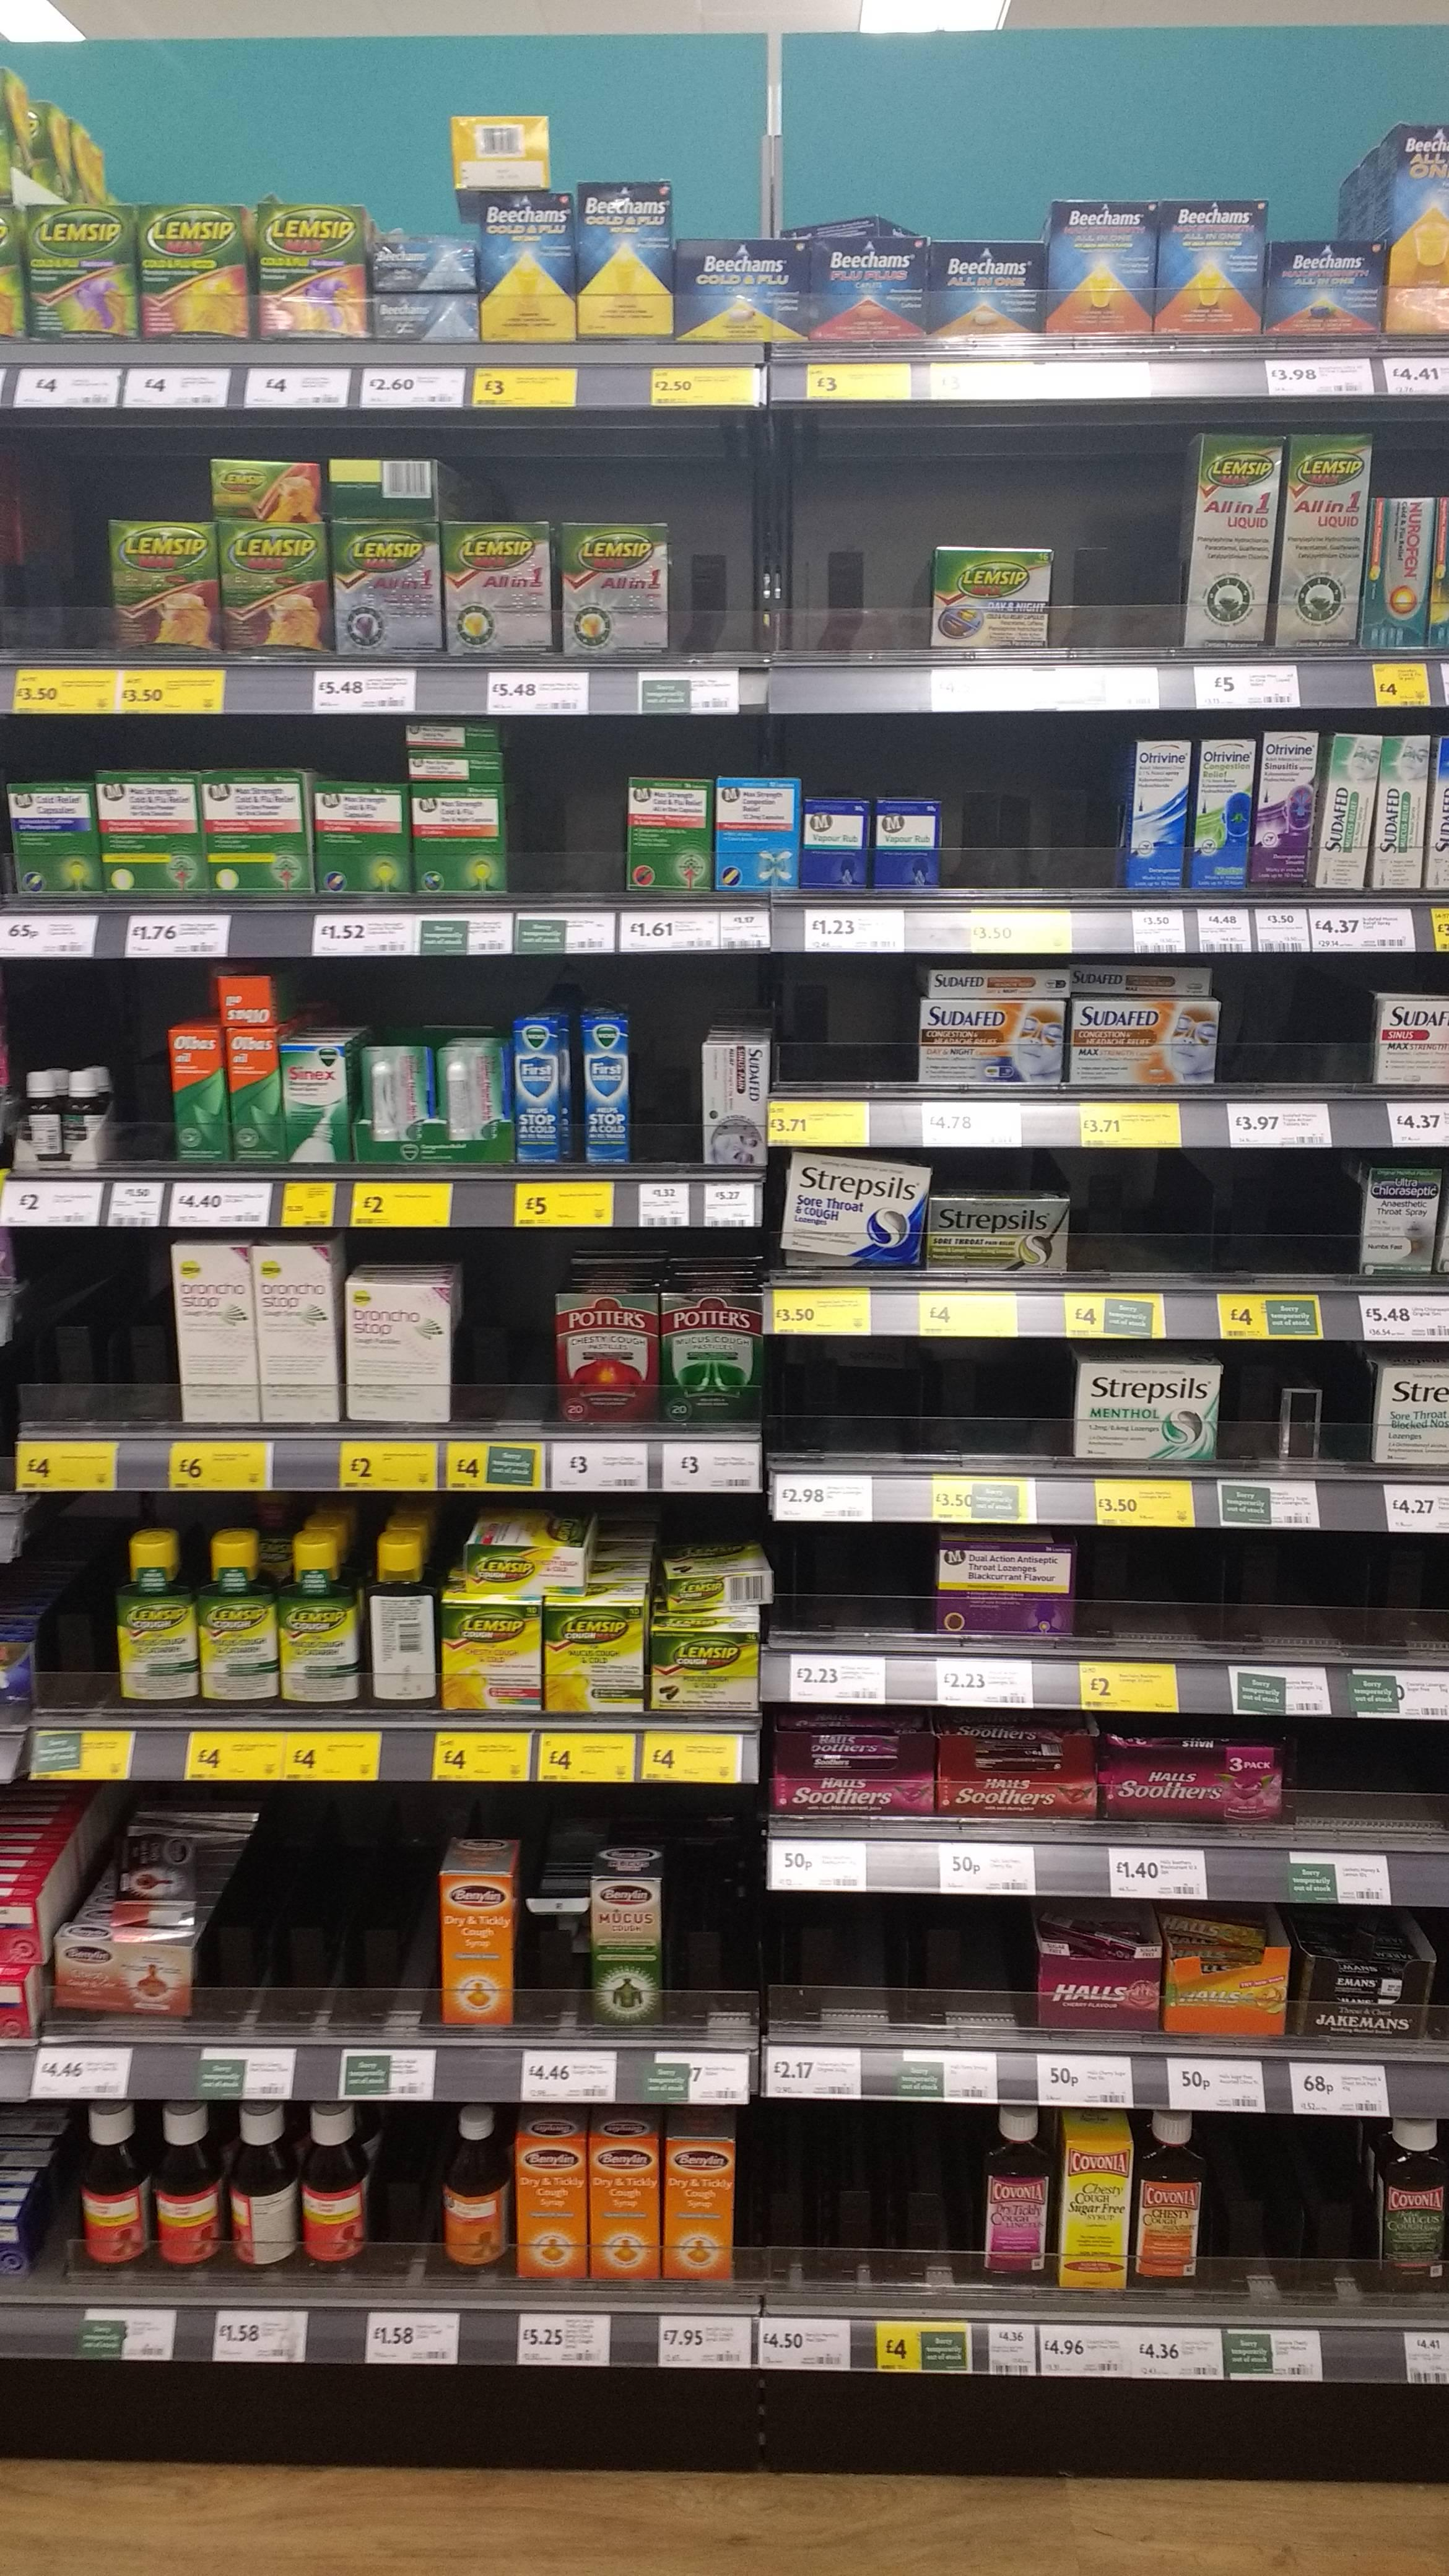empty: (678, 508, 922, 646), (1090, 1552, 1445, 1628), (754, 2134, 962, 2261), (255, 1810, 386, 2008), (778, 1905, 1016, 2003), (1079, 1171, 1339, 1256), (947, 747, 1109, 869), (782, 1359, 1053, 1430), (1210, 2146, 1361, 2268), (44, 1254, 156, 1408), (19, 472, 101, 653), (1065, 502, 1166, 646), (1235, 977, 1362, 1074), (471, 1249, 541, 1408), (685, 1826, 747, 2005), (538, 734, 609, 886), (796, 978, 902, 1072), (57, 1513, 111, 1693), (1297, 1743, 1444, 1810), (789, 1548, 908, 1621), (642, 987, 688, 1154), (387, 2118, 430, 2252), (131, 984, 163, 1154)
misalignment: (529, 1854, 589, 2003), (1261, 1369, 1334, 1477)
